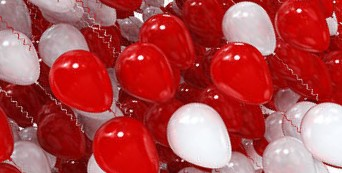Balloon: (167, 103, 232, 169), (47, 50, 112, 111), (210, 41, 272, 104), (114, 43, 176, 105), (93, 116, 160, 173), (274, 1, 330, 55), (221, 2, 277, 56), (138, 15, 195, 68), (301, 102, 342, 173), (38, 111, 87, 161), (1, 31, 40, 86), (260, 137, 311, 173)
